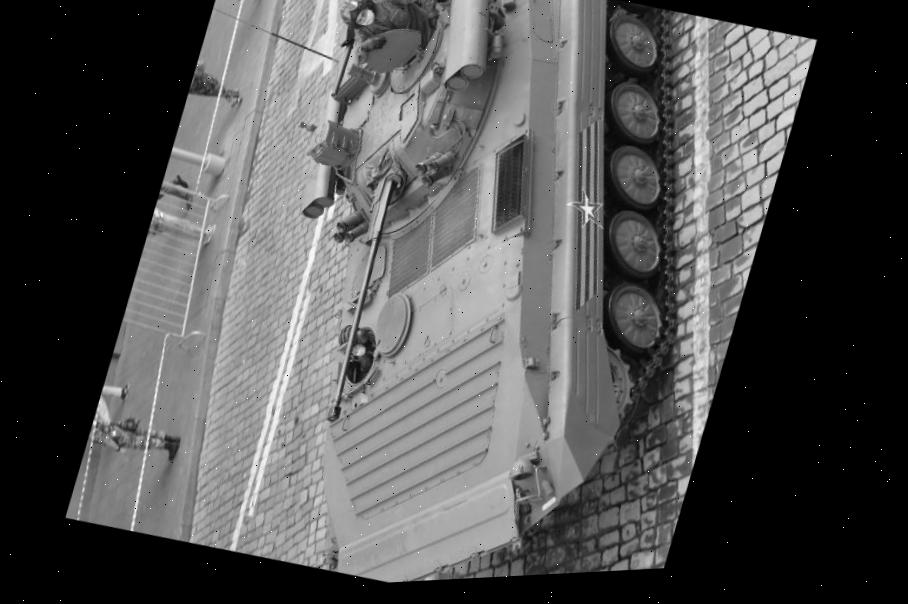tank: (192, 0, 767, 593)
